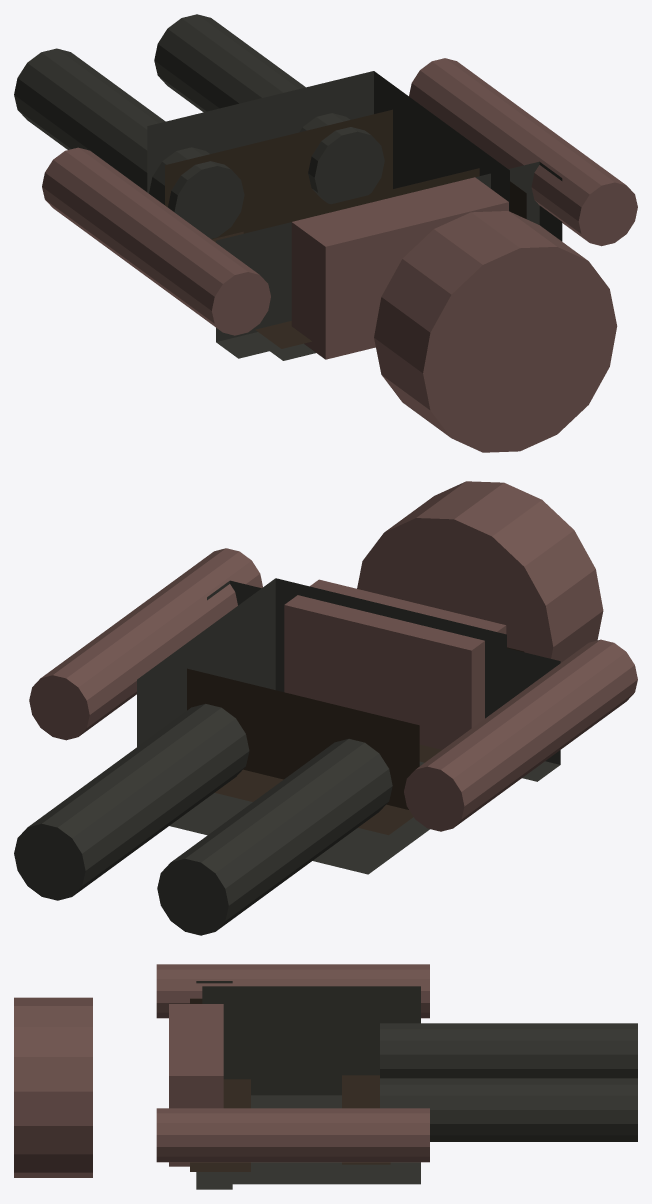
File: enemy_heavy_brute.obj
3 views of the same model, one above another, from view 1: azimuth 30°, elevation 25°; view 2: azimuth 150°, elevation 25°; view 3: azimuth 270°, elevation 25° (orthographic). The views are drawn at different scales.
Parts seen in each view (by area): view 1: enemy_heavy_brute; view 2: enemy_heavy_brute; view 3: enemy_heavy_brute.
Boxes of the visible parts, x1,y1,x2,y2 form: enemy_heavy_brute: [14, 14, 637, 452]; enemy_heavy_brute: [14, 481, 637, 935]; enemy_heavy_brute: [14, 964, 637, 1189].
Bounding box in the file's own units: 1.3 × 0.594 × 2.05.
